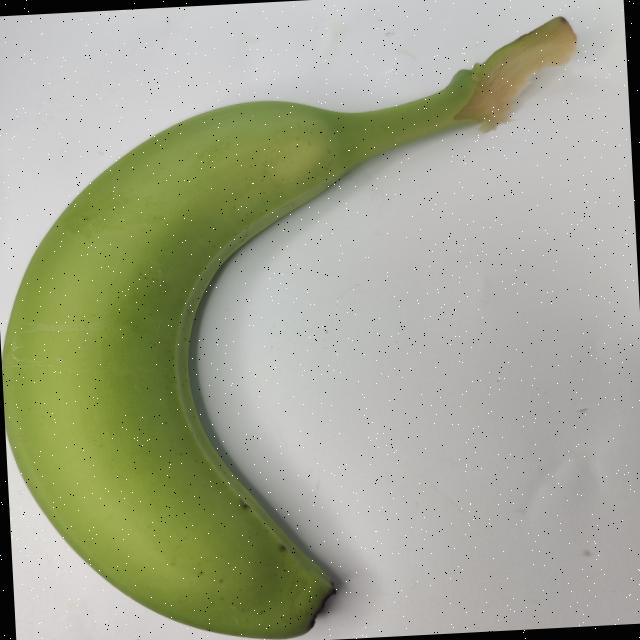Raw: (0, 7, 629, 640)
